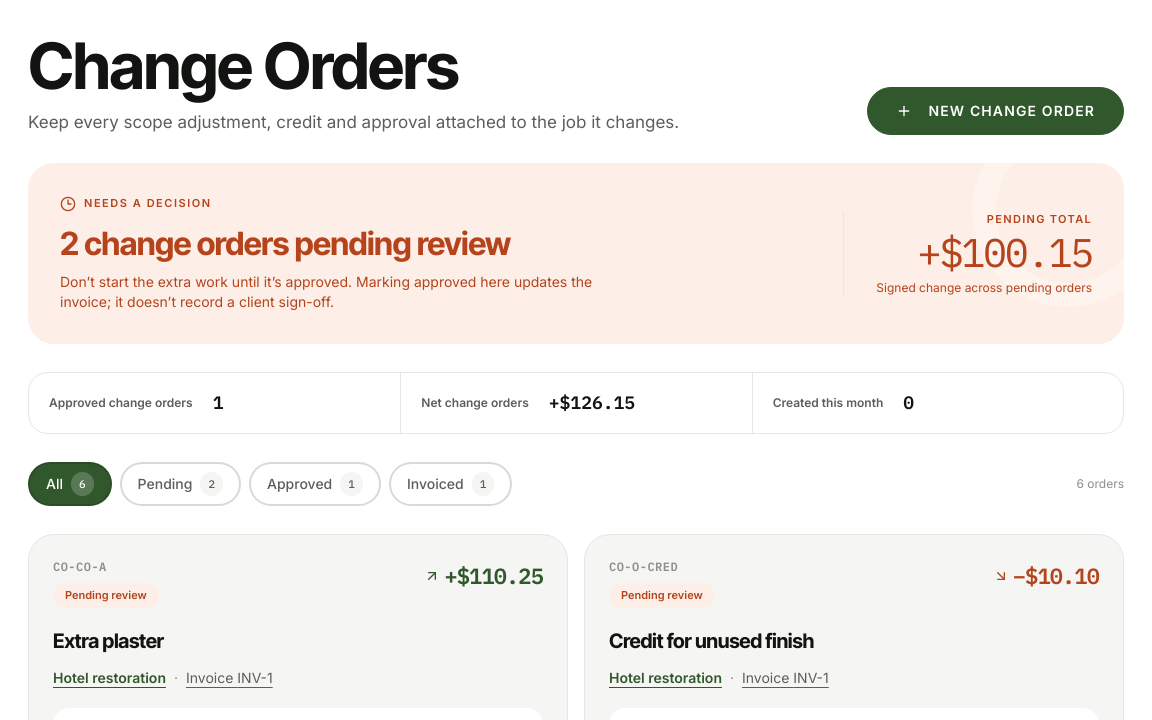
Scenario: Change Orders redesign › blocks unavailable invoices and recovers without clearing entered scope
This screenshot has width=1152, height=720.
Click the button with test id "button-new-co": click(996, 111) [868,87,1124,135]
(page scrolled)
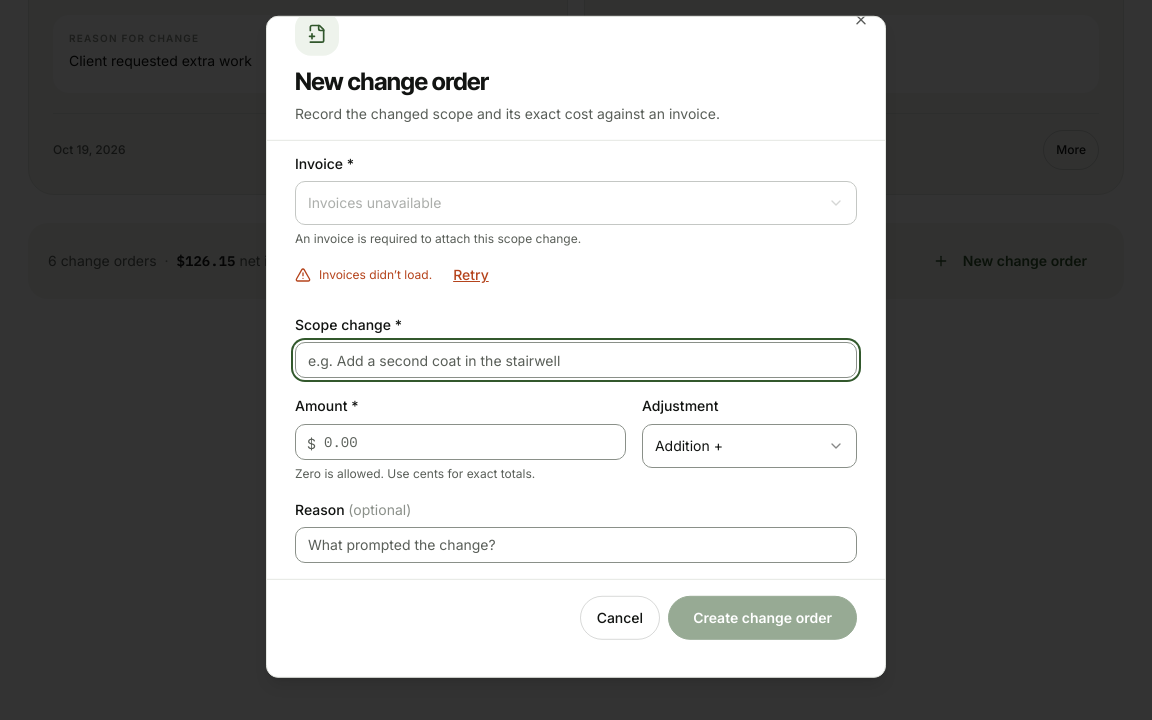
Result: the message "Invoices didn’t load. Retry" is shown at [295,253,502,297]
In the field with test id "input-co-description": (576, 360) [295,342,857,378], type "Keep this scope"
In the field with test id "input-co-amount": (460, 441) [295,423,626,459], type "10.25"
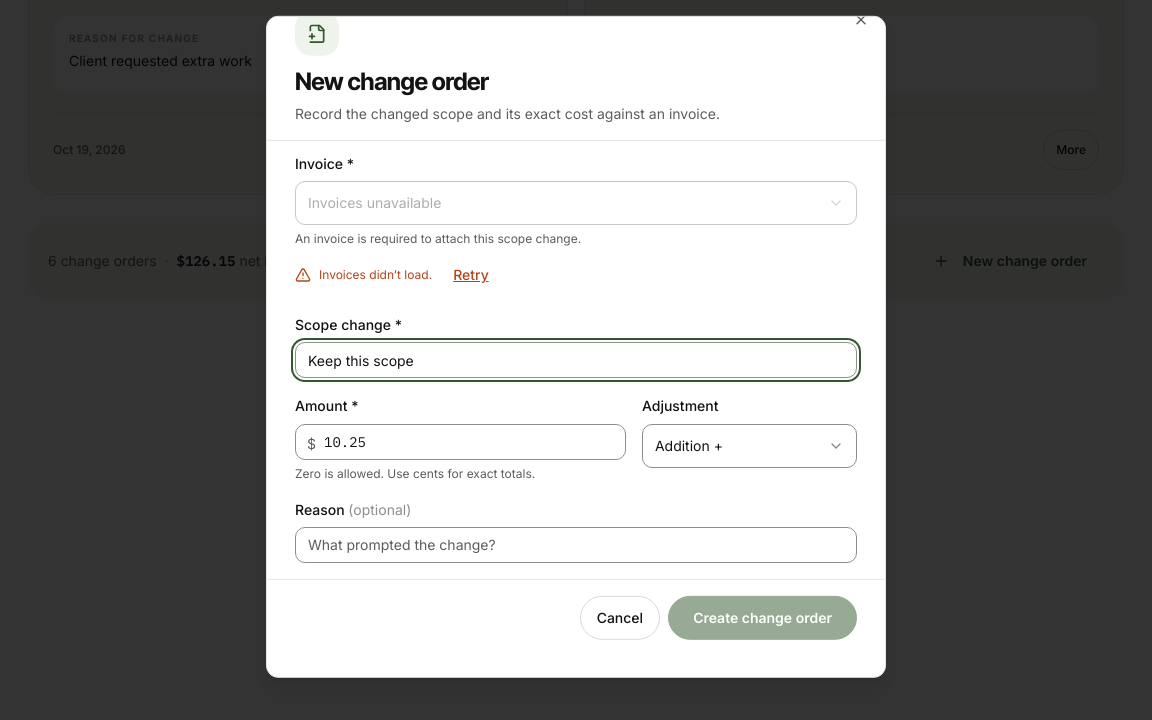
Result: the button with test id "button-save-co" is disabled at [668,596,857,640]
Click the button with test id "button-retry-co-invoices": click(471, 275) [440,253,502,297]
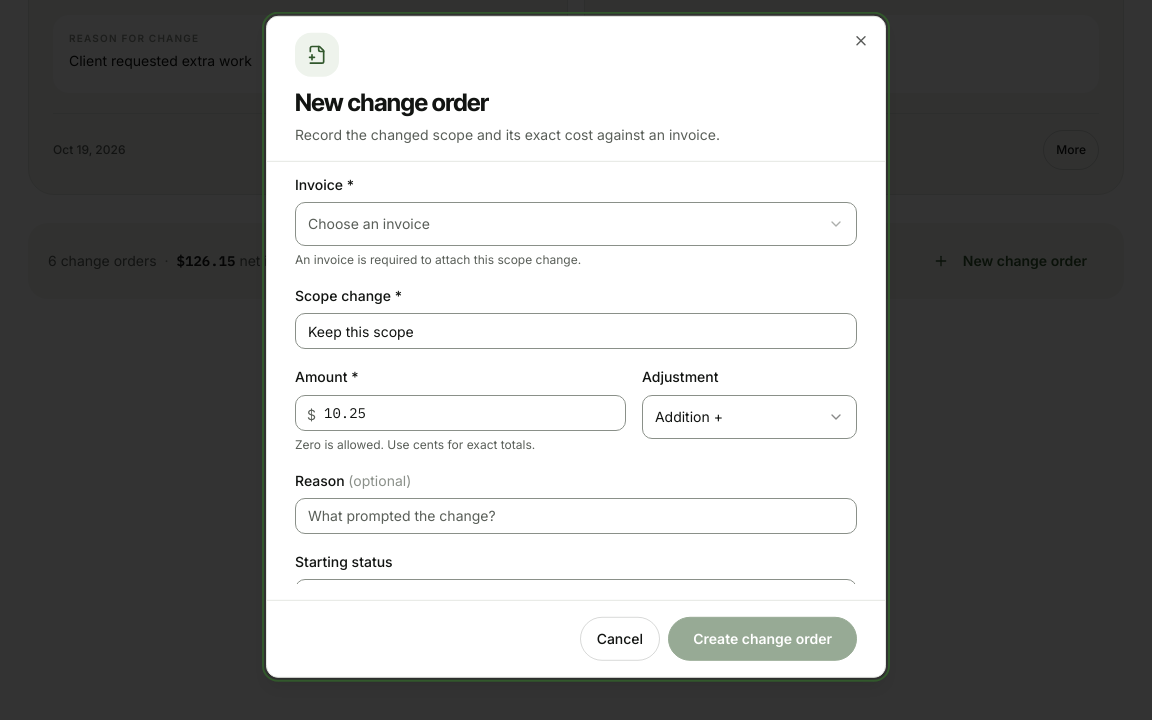
Result: the dropdown with test id "select-co-invoice" is enabled
Click the dropdown with test id "select-co-invoice": click(369, 223) [295,202,857,246]
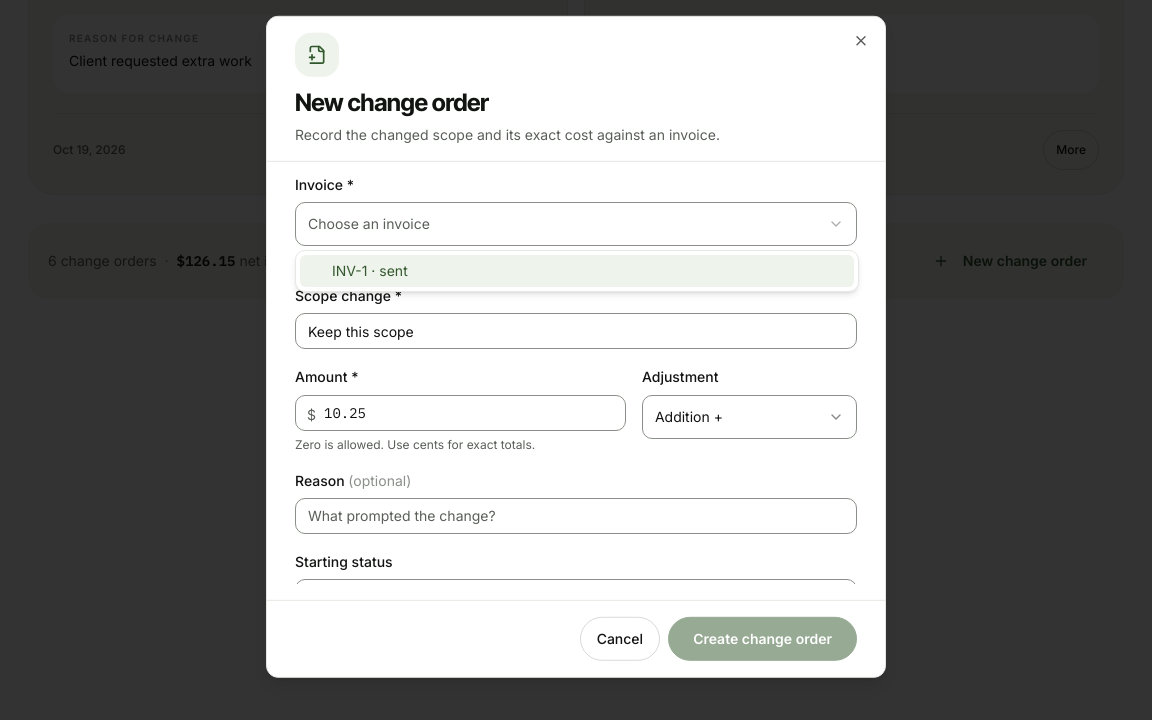
Click the option "INV-1 · sent": click(350, 270) [300,255,854,287]
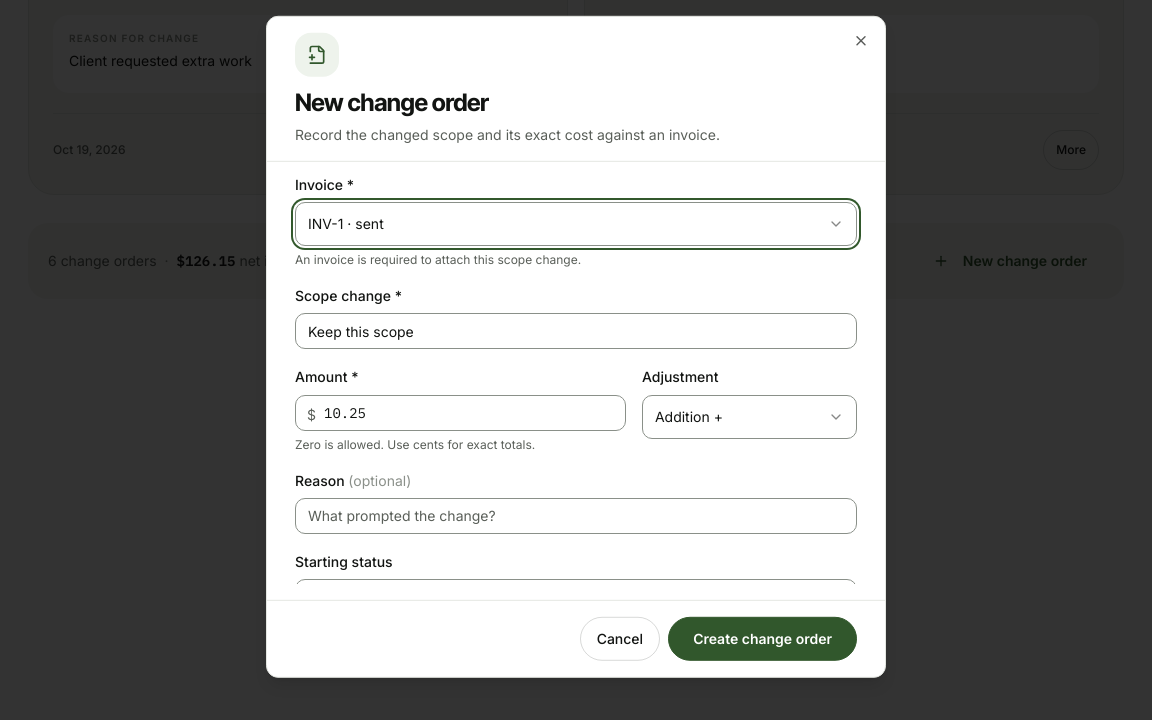
Click the button with test id "button-save-co": click(763, 639) [668,617,857,661]
(page scrolled)
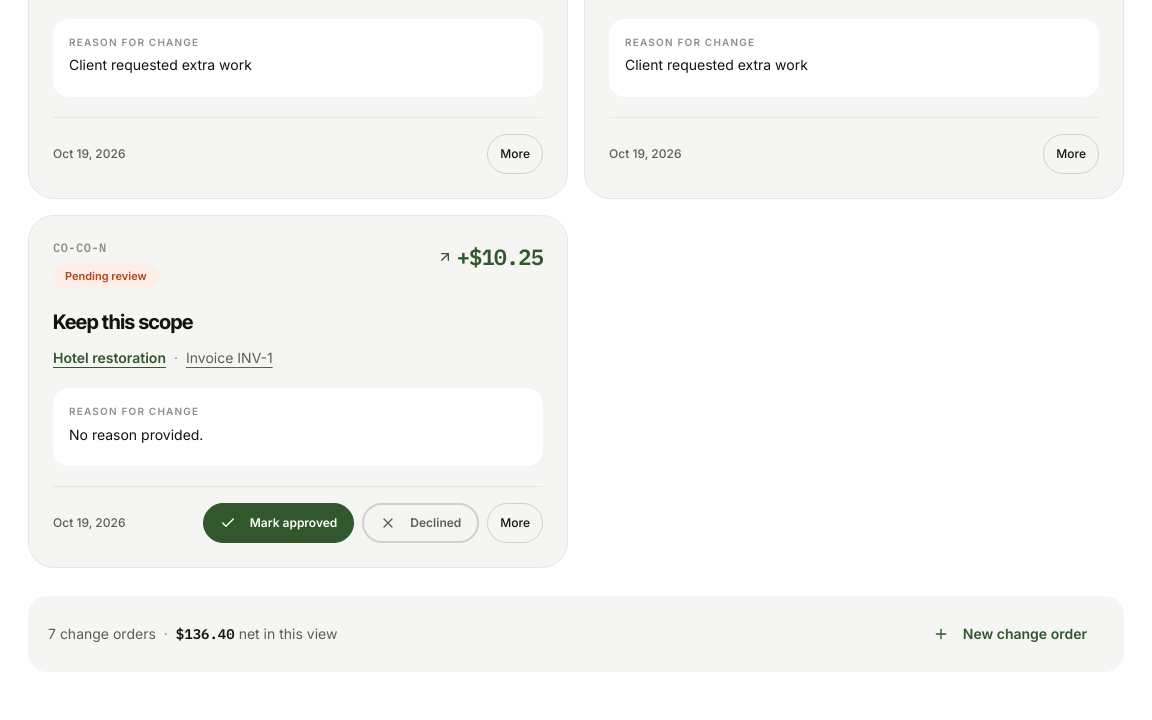
Result: the element with test id "row-co-co-new" is shown at [28,215,568,568]
